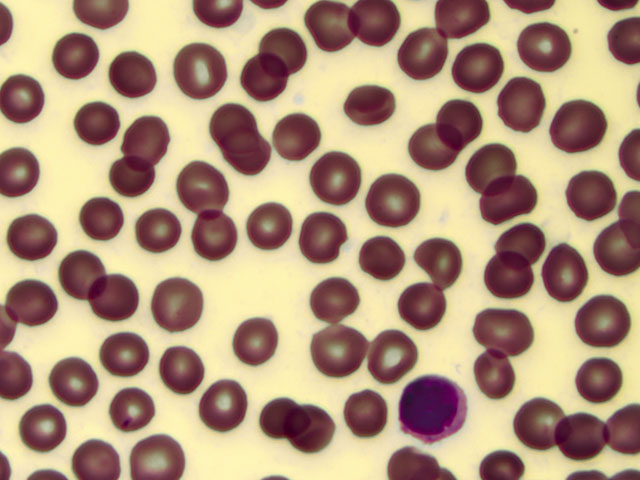RBC: (400, 29, 457, 83), (519, 20, 576, 74), (491, 80, 548, 134), (459, 138, 516, 192), (481, 176, 538, 230), (490, 216, 547, 270), (481, 251, 538, 305), (411, 236, 468, 290), (399, 269, 456, 323), (363, 329, 420, 383), (475, 305, 532, 359), (468, 348, 525, 402), (572, 296, 629, 350), (538, 242, 595, 296), (583, 218, 640, 272), (563, 171, 620, 225), (549, 96, 606, 150), (568, 348, 625, 402), (557, 407, 614, 461), (509, 397, 566, 451), (49, 31, 101, 79), (72, 100, 124, 148), (104, 49, 156, 97), (122, 116, 174, 164), (105, 157, 157, 205), (73, 197, 125, 245), (2, 211, 54, 259), (55, 249, 107, 297), (95, 278, 147, 326), (7, 278, 59, 326), (50, 361, 102, 409), (15, 406, 67, 454), (100, 329, 152, 377), (152, 279, 204, 327), (137, 204, 189, 252), (181, 162, 233, 210), (223, 128, 275, 176), (205, 96, 257, 144), (176, 50, 228, 98), (235, 57, 287, 105), (257, 27, 309, 75), (303, 2, 355, 50), (343, 80, 395, 128), (261, 109, 313, 157), (304, 150, 356, 198), (294, 214, 346, 262), (240, 201, 292, 249), (188, 209, 240, 257), (231, 311, 283, 359), (150, 348, 202, 396), (103, 386, 155, 434), (67, 432, 119, 480), (131, 432, 183, 480), (200, 380, 252, 428), (248, 388, 300, 436), (285, 399, 337, 447), (335, 388, 387, 436), (305, 323, 357, 371), (306, 276, 358, 324), (354, 237, 406, 285), (364, 176, 416, 224), (406, 121, 458, 169), (432, 97, 484, 145), (452, 44, 504, 92), (1, 74, 52, 122), (1, 148, 52, 196), (350, 1, 402, 48)
WBC: (395, 378, 472, 445)
